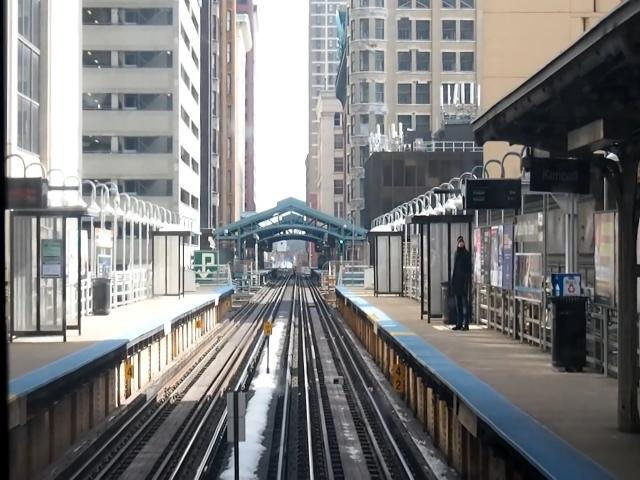signal light: (341, 238, 347, 259)
